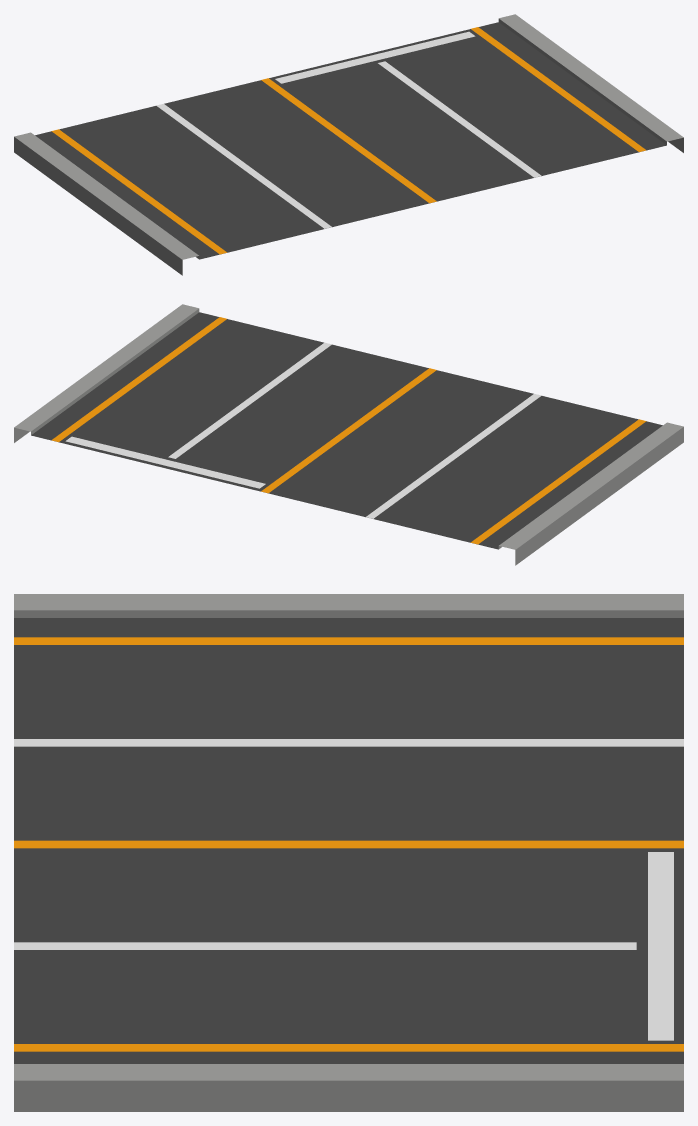
Rendered from Road_A_2L_2_7.fbx.
3 renders of one model, top to bottom at view 1: azimuth 30°, elevation 25°; view 2: azimuth 150°, elevation 25°; view 3: azimuth 270°, elevation 25°, orthographic. The views are drawn at different scales.
Parts seen in each view (by area): view 1: Road_A_2L_2_7; view 2: Road_A_2L_2_7; view 3: Road_A_2L_2_7.
Boxes of the visible parts, <box> form: Road_A_2L_2_7: <box>14,14,683,275</box>; Road_A_2L_2_7: <box>14,304,683,565</box>; Road_A_2L_2_7: <box>14,594,683,1111</box>.
Bounding box in the file's own units: 1375 × 41.48 × 800.
